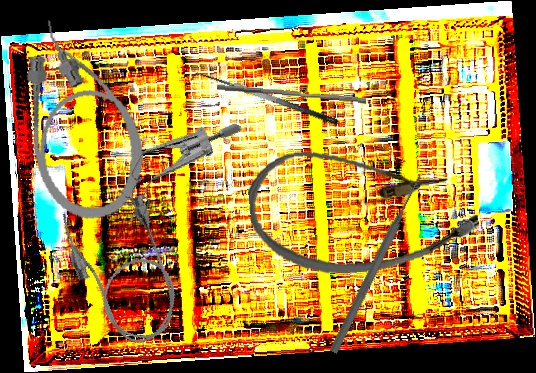Cannula: (244, 133, 483, 283), (11, 8, 154, 229), (54, 185, 192, 356)
Pusher: (327, 171, 427, 356), (216, 84, 367, 104)
Spatula Surgical: (188, 64, 340, 138)
Speculum: (109, 90, 243, 246)
